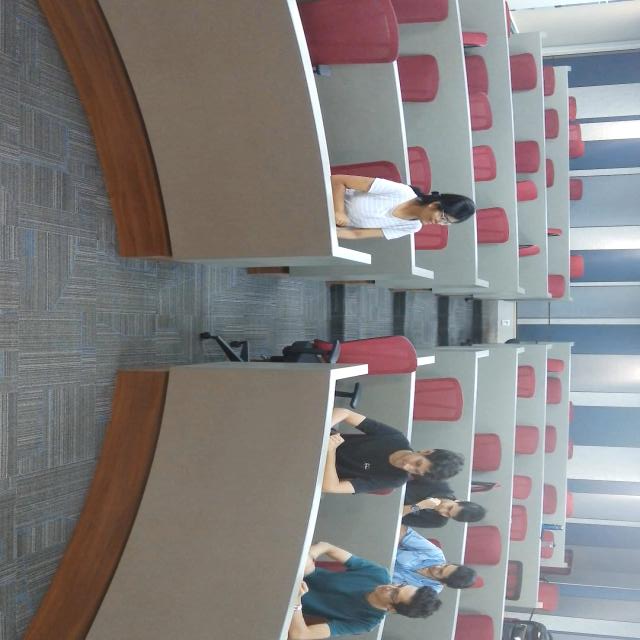cheating: (550, 206, 640, 368), (168, 165, 250, 318), (419, 171, 493, 332), (484, 144, 530, 245)
